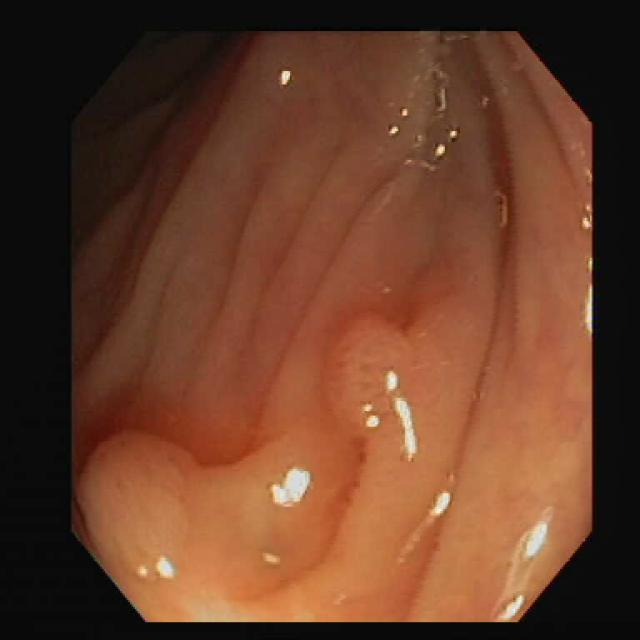tumor: (75, 409, 195, 576), (320, 313, 410, 418)
